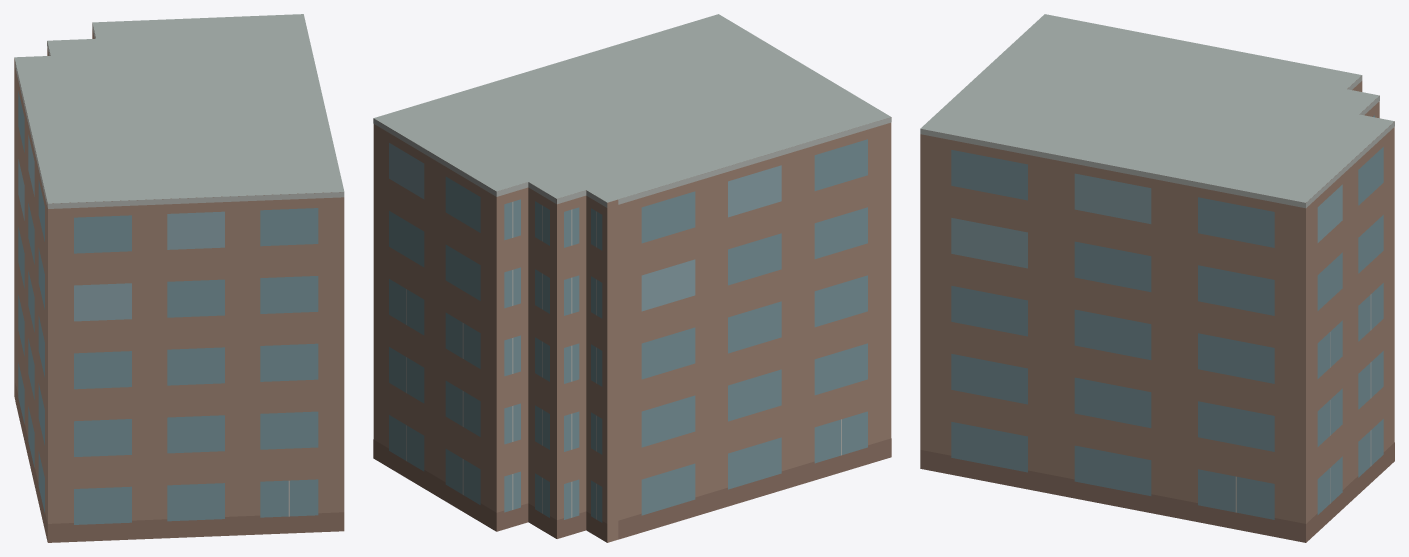
File: survey-upis-32551311.glb
3 renders of one model, left to right at view 1: azimuth 30°, elevation 25°; view 2: azimuth 150°, elevation 25°; view 3: azimuth 270°, elevation 25°, orthographic.
Visible parts, largest first — view 1: survey-upis-32551311.tmp; view 2: survey-upis-32551311.tmp; view 3: survey-upis-32551311.tmp.
Part boxes in pixels (box(x1,y1,x2,y2)): survey-upis-32551311.tmp: box(14, 14, 344, 542); survey-upis-32551311.tmp: box(373, 14, 891, 542); survey-upis-32551311.tmp: box(920, 14, 1394, 542).
Bounding box in the file's own units: 18.18 × 15.25 × 19.3.
